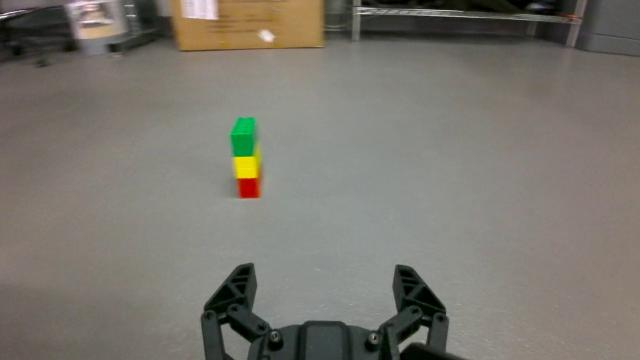lego: (228, 114, 266, 199)
